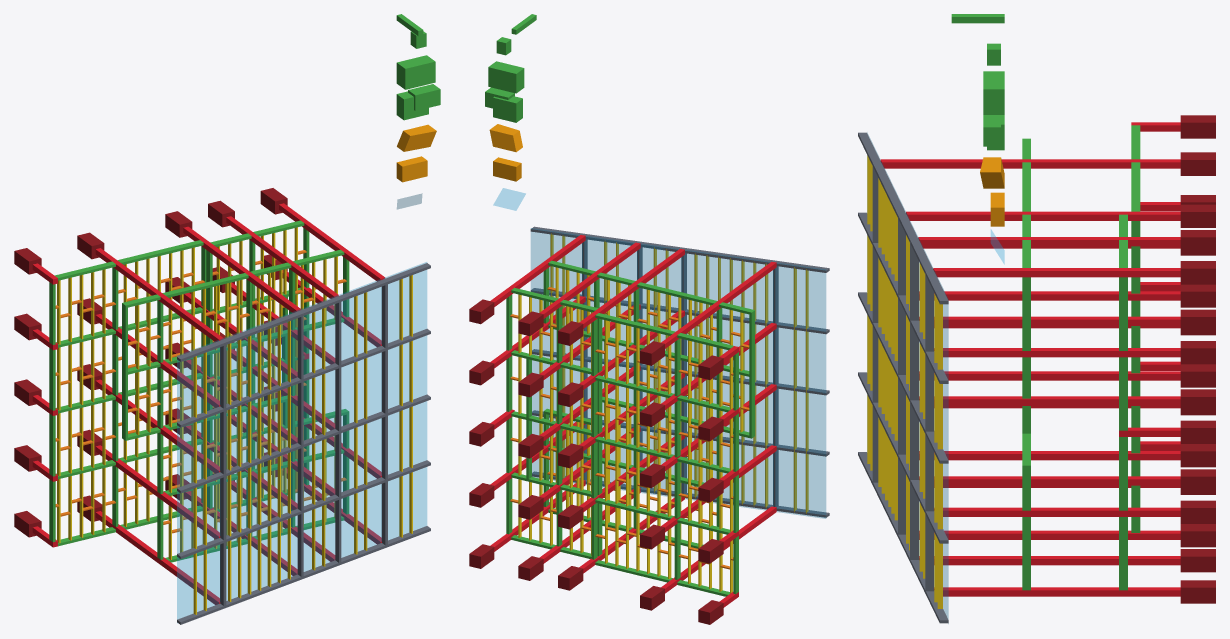
File: tinker.obj
3 renders of one model, left to right at view 1: azimuth 30°, elevation 25°; view 2: azimuth 150°, elevation 25°; view 3: azimuth 270°, elevation 25°, orthographic. The views are drawn at different scales.
Parts seen in each view (by area): view 1: obj_424, obj_1, obj_420, obj_2, obj_20, obj_15, obj_421, obj_3, obj_4, obj_11, obj_6, obj_419 (+10 smaller); view 2: obj_424, obj_1, obj_420, obj_2, obj_421, obj_3, obj_4, obj_20, obj_15, obj_419, obj_7, obj_11 (+13 smaller); view 3: obj_1, obj_2, obj_3, obj_4, obj_9, obj_18, obj_23, obj_13, obj_8, obj_17, obj_22, obj_7 (+59 smaller).
Boxes of the visible parts, x1,y1,x2,y2 form: obj_424: (177, 262, 426, 623); obj_1: (95, 248, 223, 341); obj_420: (396, 84, 440, 120); obj_2: (183, 226, 300, 312); obj_20: (95, 511, 220, 604); obj_15: (95, 445, 220, 539); obj_421: (396, 55, 435, 89); obj_3: (226, 216, 338, 298); obj_4: (279, 203, 384, 281); obj_11: (95, 379, 220, 473); obj_6: (95, 314, 220, 407); obj_419: (397, 124, 436, 151); obj_424: (531, 228, 825, 518); obj_1: (661, 261, 776, 348); obj_420: (485, 87, 522, 122); obj_2: (579, 249, 684, 328); obj_421: (488, 61, 524, 93); obj_3: (539, 242, 640, 318); obj_4: (490, 235, 585, 306); obj_20: (661, 506, 776, 593); obj_15: (661, 445, 776, 532); obj_419: (489, 124, 522, 152); obj_7: (579, 310, 684, 389); obj_11: (661, 384, 776, 470); obj_1: (880, 159, 1180, 168); obj_2: (906, 211, 1180, 220); obj_3: (918, 237, 1180, 246); obj_4: (933, 268, 1180, 277); obj_9: (934, 348, 1180, 357); obj_18: (934, 507, 1180, 516); obj_23: (934, 587, 1180, 596); obj_13: (919, 396, 1180, 405); obj_8: (919, 316, 1180, 325); obj_17: (919, 476, 1180, 485); obj_22: (919, 556, 1180, 565); obj_7: (919, 291, 1180, 300).
Size of the model in its own units: 132 by 192 by 102.
